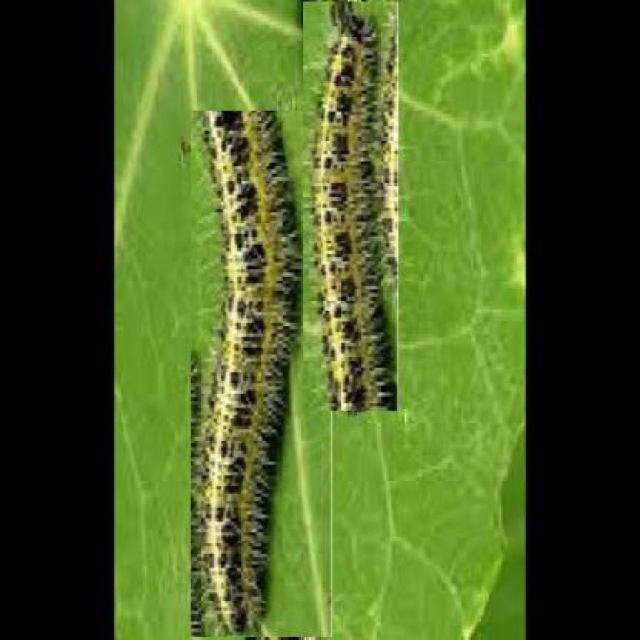Plaga: (191, 111, 334, 640), (302, 1, 399, 413)
